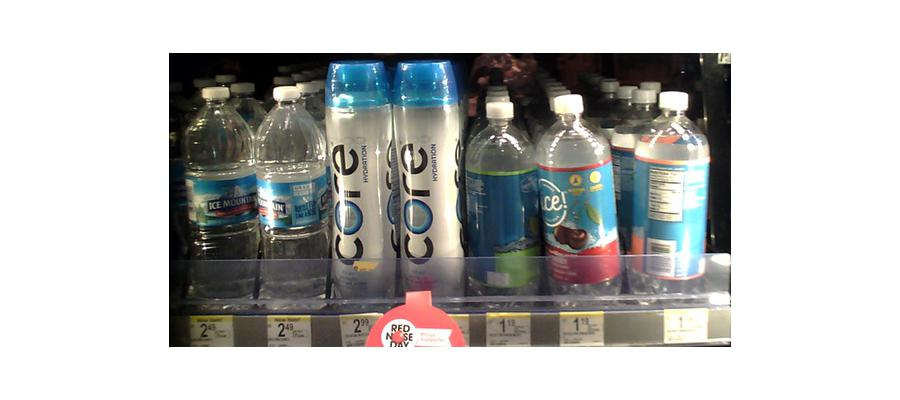bottle: (322, 59, 396, 308), (538, 93, 621, 305), (629, 89, 710, 305), (393, 58, 463, 302), (182, 83, 256, 308), (254, 82, 327, 308), (465, 92, 535, 302)
